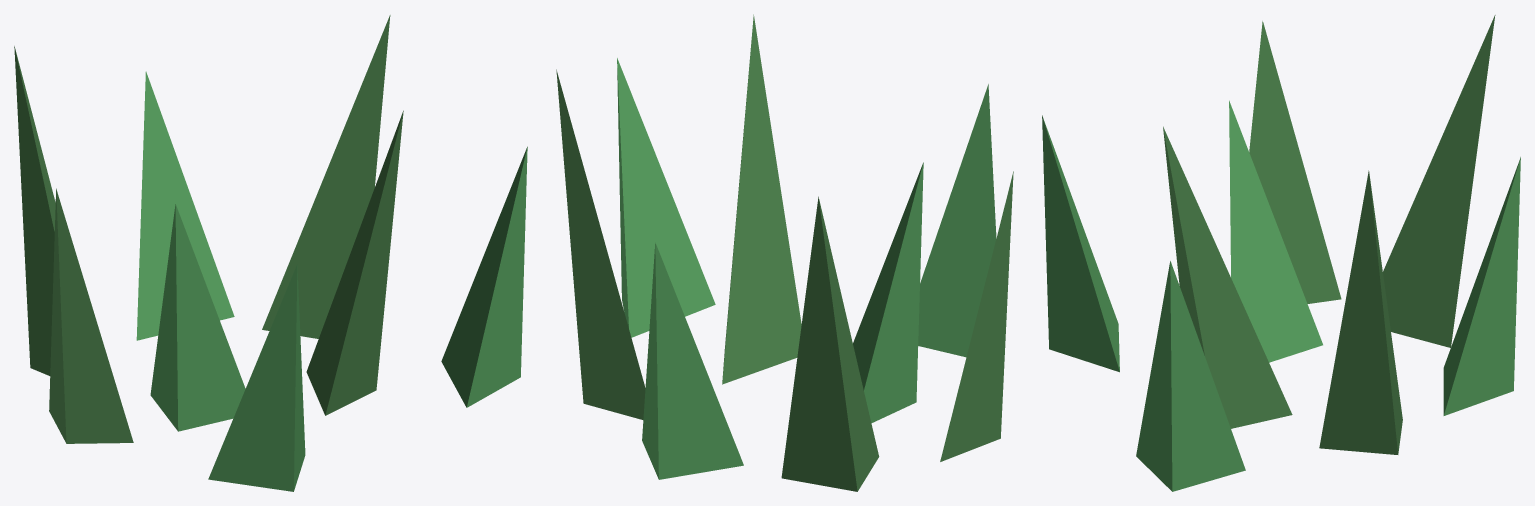
File: grass.glb
3 renders of one model, left to right at view 1: azimuth 30°, elevation 25°; view 2: azimuth 150°, elevation 25°; view 3: azimuth 270°, elevation 25°, orthographic. The views are drawn at different scales.
Visible parts, largest first — view 1: grass; view 2: grass; view 3: grass.
Boxes of the visible parts, box(x1,y1,x2,y2) form: grass: box(14, 15, 527, 491); grass: box(556, 14, 1013, 491); grass: box(1042, 15, 1520, 491).
Size of the model in its own units: 0.2114 by 0.1426 by 0.2026.
